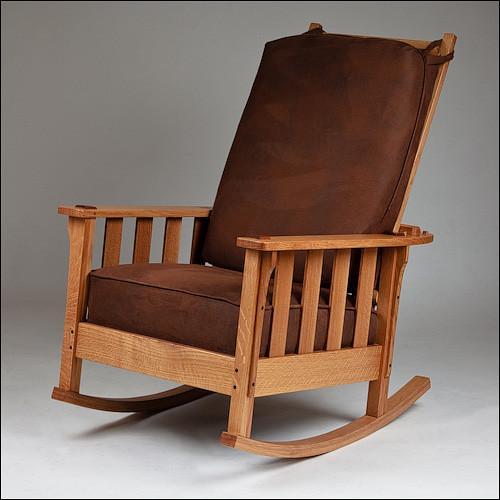chair: (51, 22, 458, 460)
